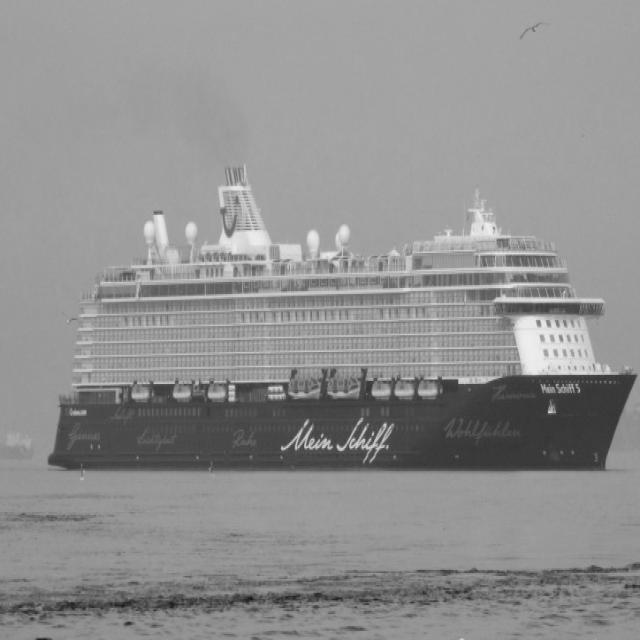cruises: (56, 178, 637, 475)
